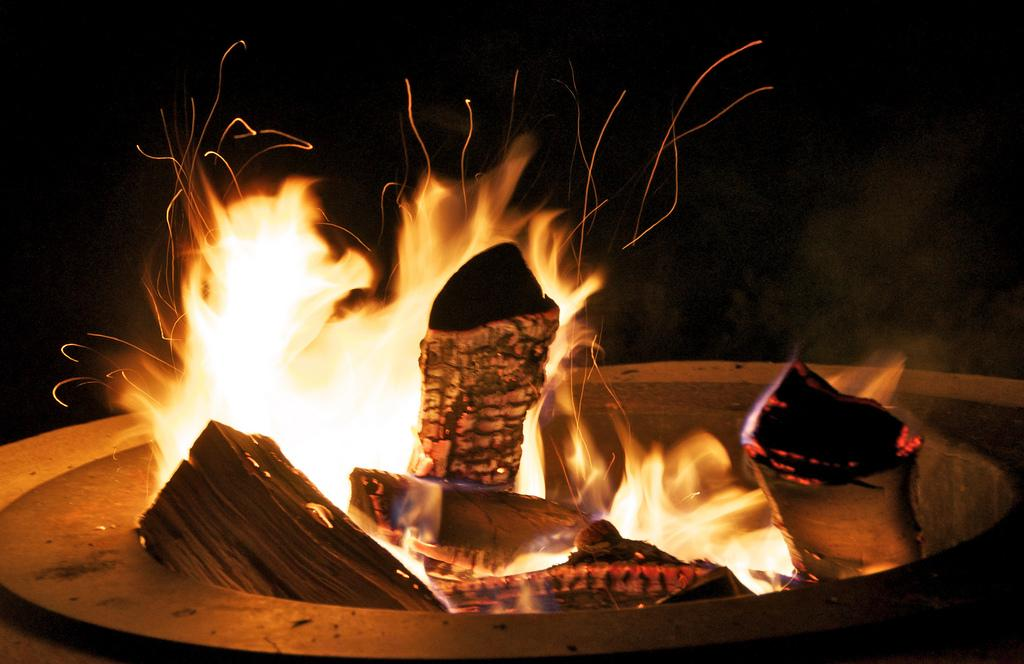fire: (177, 217, 353, 458), (622, 423, 732, 595), (355, 275, 422, 455)
